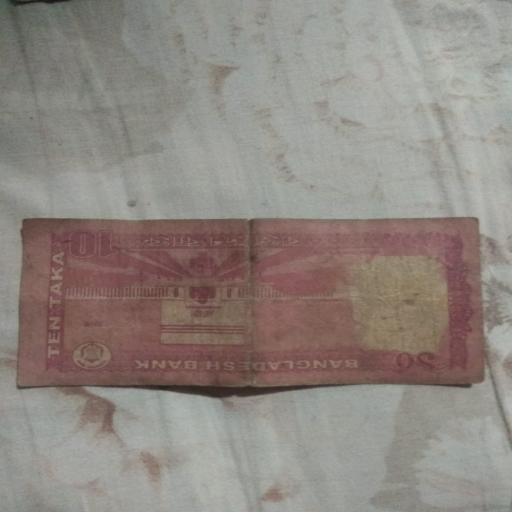10taka: (23, 220, 487, 386)
